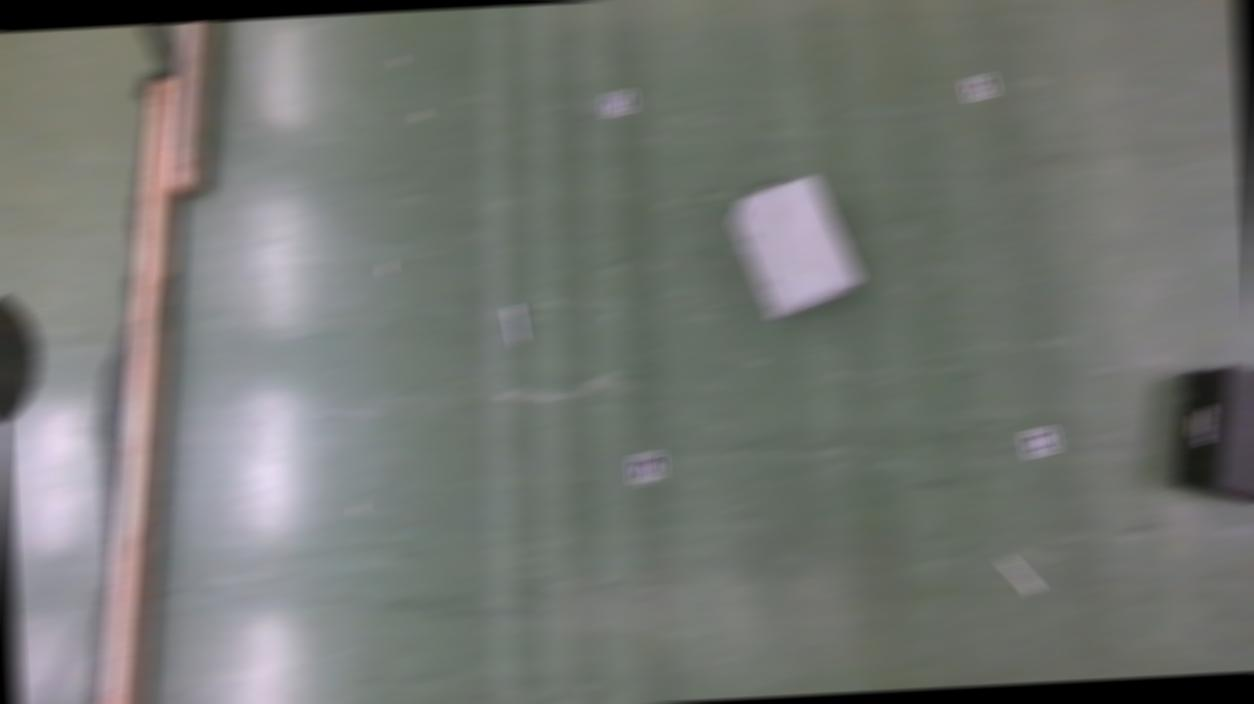probes: (1002, 556, 1040, 596), (504, 306, 524, 346)
rako: (729, 175, 865, 323), (1166, 365, 1254, 506)
